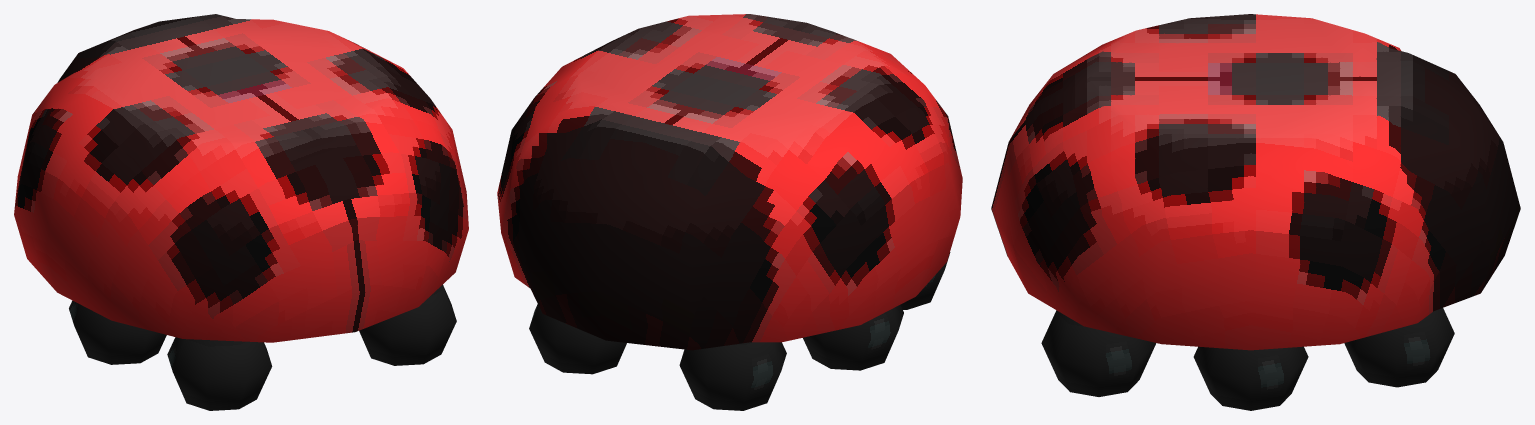
The model's file is int_isc_stool.dae.
The picture shows the model from 3 angles, left to right: view 1: azimuth 30°, elevation 25°; view 2: azimuth 150°, elevation 25°; view 3: azimuth 270°, elevation 25°; orthographic projection. The views are drawn at different scales.
Parts seen in each view (by area): view 1: int_isc_stool; view 2: int_isc_stool; view 3: int_isc_stool.
Part boxes in pixels (x1,y1,x2,y2): int_isc_stool: [14, 14, 468, 410]; int_isc_stool: [497, 14, 962, 410]; int_isc_stool: [991, 14, 1520, 410].
Size of the model in its own units: 24.02 by 14.99 by 26.79.
1 material, 1 textured.
